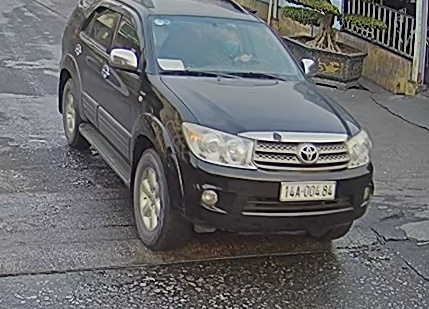vehicle plate: (276, 178, 338, 202)
